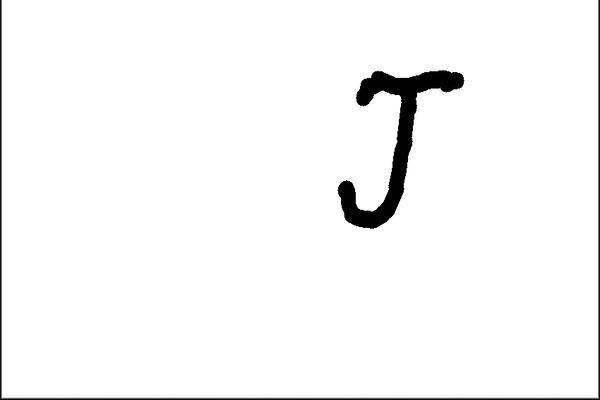J: (330, 64, 468, 231)
